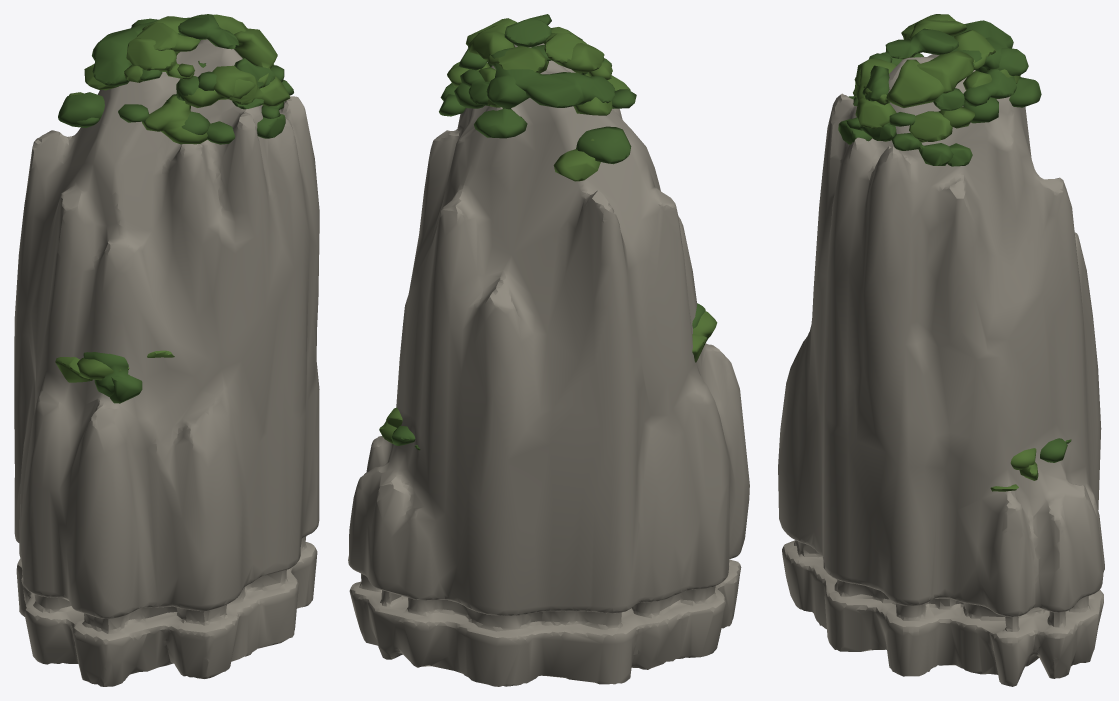
File: karst-a.glb
The picture shows the model from 3 angles, left to right: view 1: azimuth 30°, elevation 25°; view 2: azimuth 150°, elevation 25°; view 3: azimuth 270°, elevation 25°; orthographic projection.
Parts seen in each view (by area): view 1: rock_0, bush2_4, bush_1, bush_3, bush2_2; view 2: rock_0, bush_3, bush_1, bush2_2, bush2_4; view 3: rock_0, bush_3, bush2_4, bush_1, bush2_2.
Part boxes in pixels (x1,y1,x2,y2): rock_0: (14,39,319,686); bush2_4: (77,14,290,380); bush_1: (76,17,293,396); bush_3: (58,14,284,403); bush2_2: (55,16,277,382); rock_0: (348,43,749,686); bush_3: (391,14,707,445); bush_1: (414,45,705,450); bush2_2: (379,18,706,443); bush2_4: (386,23,717,427); rock_0: (778,54,1104,686); bush_3: (846,28,1067,462); bush2_4: (853,19,1036,491); bush_1: (838,20,1071,443); bush2_2: (854,14,1038,480).
Bounding box in the file's own units: 29.15 × 53.18 × 26.42.
